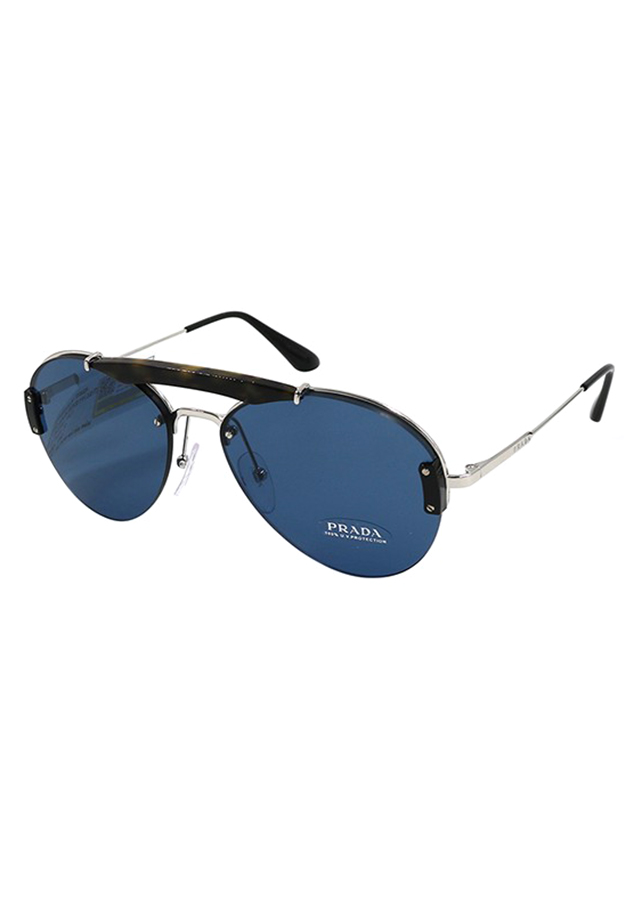Prada: (320, 517, 387, 541)
